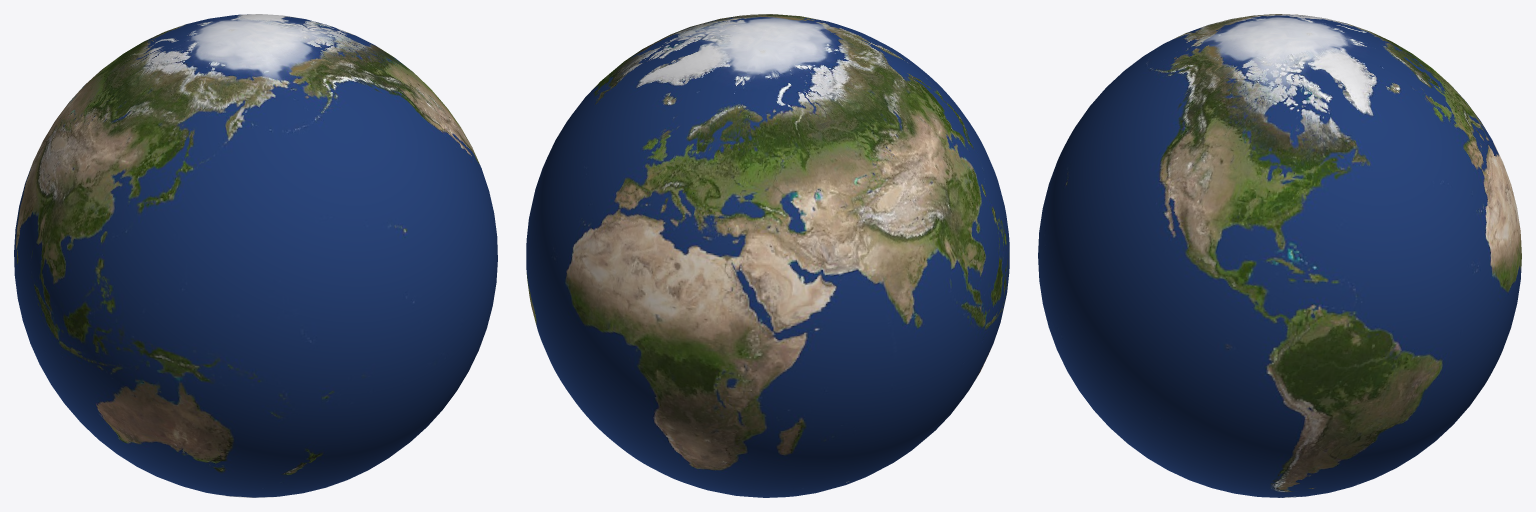
File: earth.glb
The picture shows the model from 3 angles, left to right: view 1: azimuth 30°, elevation 25°; view 2: azimuth 150°, elevation 25°; view 3: azimuth 270°, elevation 25°; orthographic projection.
Visible parts, largest first — view 1: Sphere; view 2: Sphere; view 3: Sphere.
Boxes of the visible parts, x1,y1,x2,y2 form: Sphere: [14, 14, 497, 497]; Sphere: [526, 14, 1009, 497]; Sphere: [1038, 14, 1521, 497].
Size of the model in its own units: 2 by 2 by 2.
Materials: 1 (1 with a texture image).
